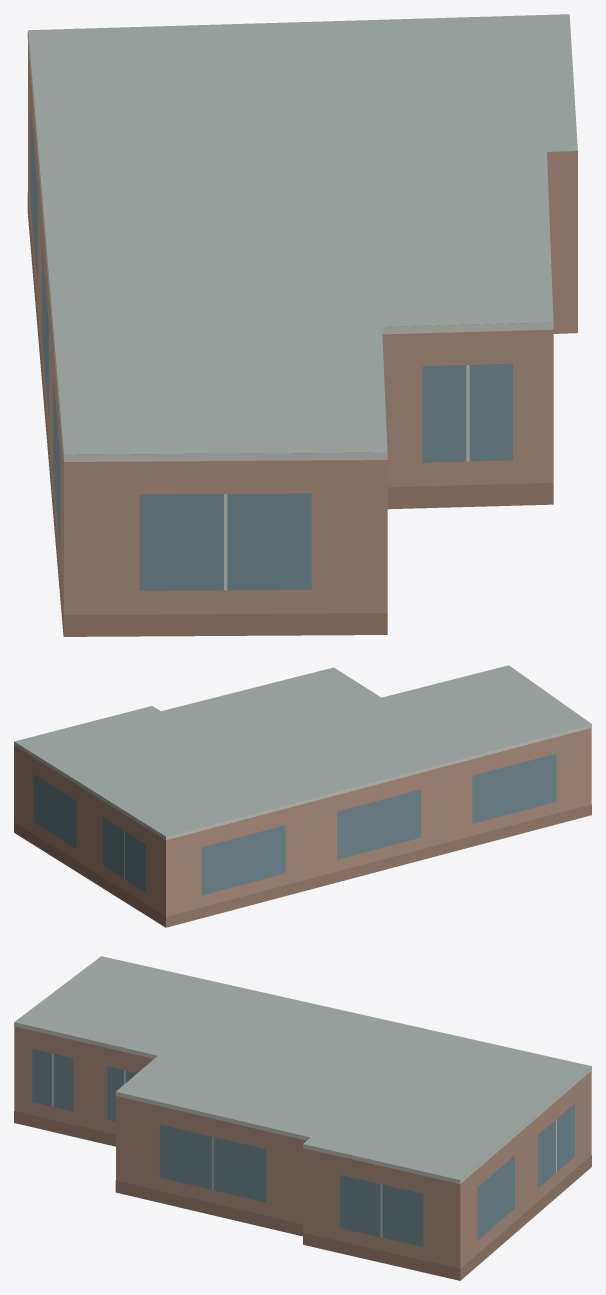
File: survey-upis-32723860.glb
3 views of the same model, one above another, from view 1: azimuth 30°, elevation 25°; view 2: azimuth 150°, elevation 25°; view 3: azimuth 270°, elevation 25° (orthographic). The views are drawn at different scales.
Visible parts, largest first — view 1: survey-upis-32723860.tmp; view 2: survey-upis-32723860.tmp; view 3: survey-upis-32723860.tmp.
Boxes of the visible parts, bbox=[...] form: survey-upis-32723860.tmp: bbox=[27, 14, 577, 636]; survey-upis-32723860.tmp: bbox=[14, 665, 591, 927]; survey-upis-32723860.tmp: bbox=[14, 956, 591, 1280].
Bounding box in the file's own units: 14.56 × 3.05 × 15.87.
